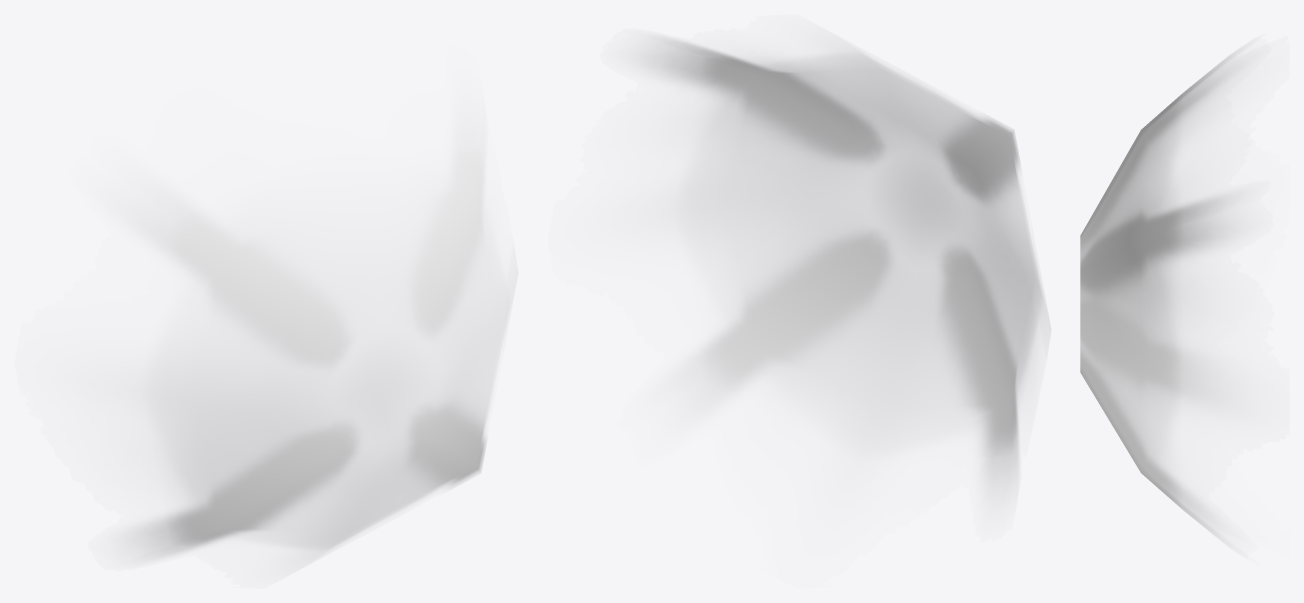
File: run_effect.obj
The picture shows the model from 3 angles, left to right: view 1: azimuth 30°, elevation 25°; view 2: azimuth 150°, elevation 25°; view 3: azimuth 270°, elevation 25°; orthographic projection. The views are drawn at different scales.
Parts seen in each view (by area): view 1: Plane001; view 2: Plane001; view 3: Plane001.
Boxes of the visible parts, x1,y1,x2,y2 form: Plane001: (110, 85, 517, 557); Plane001: (641, 38, 1050, 494); Plane001: (1080, 49, 1245, 546).
Size of the model in its own units: 235 by 259 by 97.32.
1 material, 1 textured.
